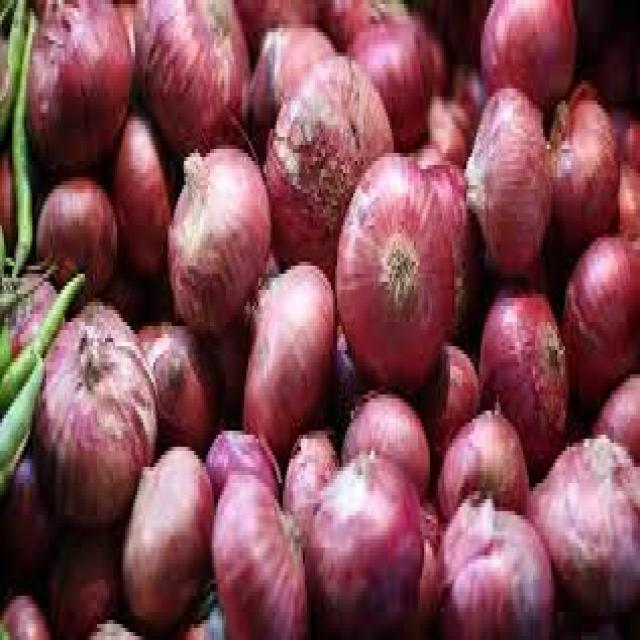Onion: (260, 41, 409, 290), (329, 127, 460, 374), (155, 106, 285, 332), (22, 325, 169, 524), (220, 238, 343, 464), (309, 438, 423, 640), (17, 0, 138, 176), (456, 79, 562, 267), (469, 295, 576, 473), (118, 425, 209, 604), (212, 475, 305, 640), (551, 238, 640, 410), (27, 168, 134, 300), (478, 0, 583, 126), (329, 376, 440, 488), (537, 91, 619, 238), (426, 403, 530, 513)
